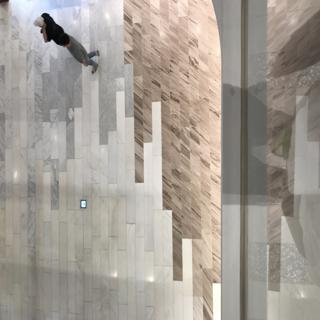person: (33, 7, 102, 76)
